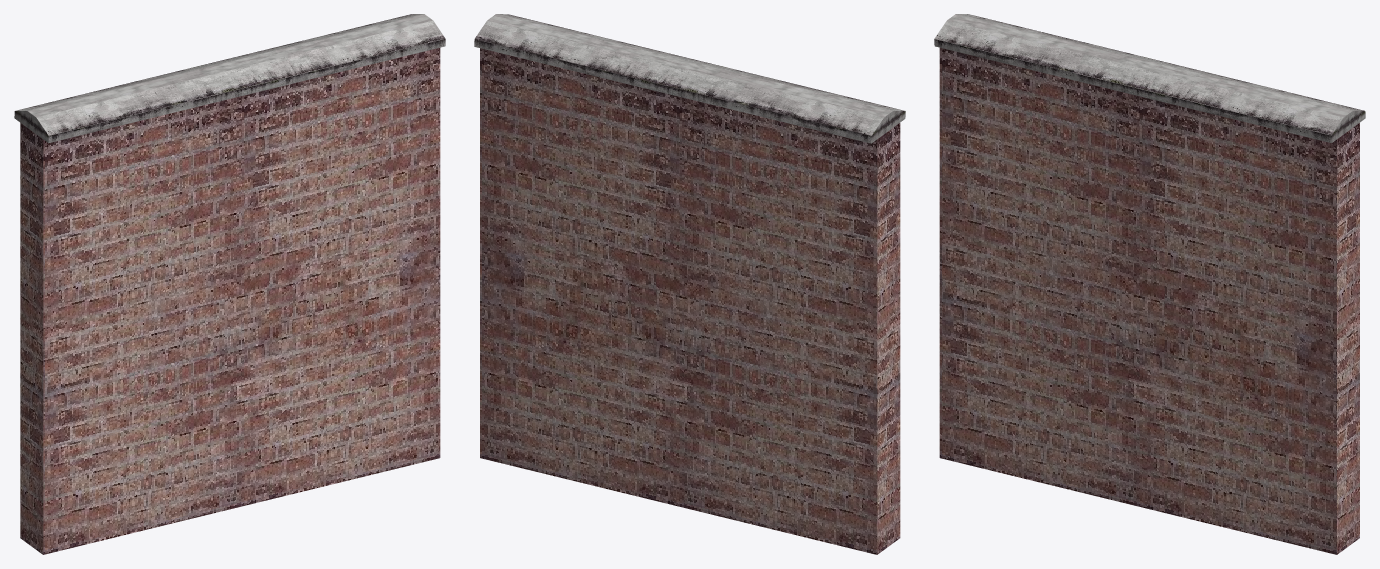
File: brick_wall_small.glb
3 views of the same model, side by side, from view 1: azimuth 30°, elevation 25°; view 2: azimuth 150°, elevation 25°; view 3: azimuth 330°, elevation 25° (orthographic).
Parts seen in each view (by area): view 1: brick_wall_small; view 2: brick_wall_small; view 3: brick_wall_small.
Boxes of the visible parts, x1=… form: brick_wall_small: x1=14, y1=14, x2=445, y2=554; brick_wall_small: x1=474, y1=14, x2=905, y2=554; brick_wall_small: x1=934, y1=14, x2=1365, y2=554.
Bounding box in the file's own units: 2 × 2.08 × 0.2996.
2 materials, 2 textured.
